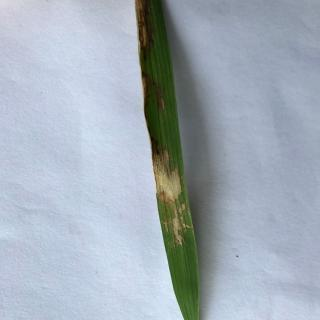Hawar-Daun: (150, 140, 184, 203), (160, 207, 194, 250), (136, 0, 156, 51), (140, 73, 152, 109), (158, 96, 166, 112)
